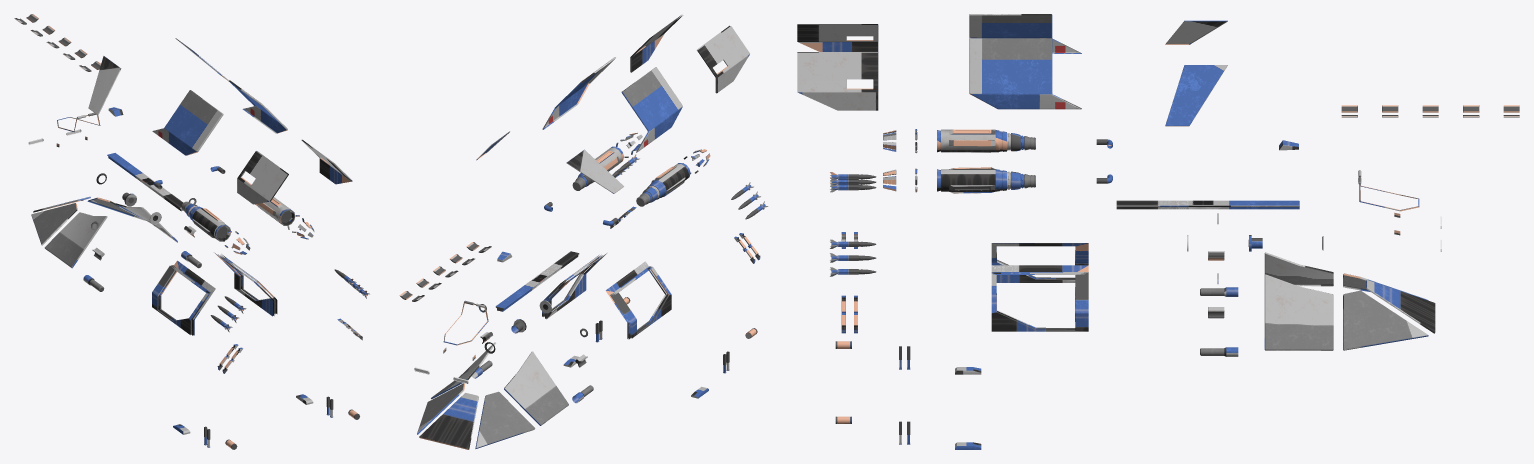
The model's file is HAAD_H.fbx.
The picture shows the model from 3 angles, left to right: view 1: azimuth 30°, elevation 25°; view 2: azimuth 150°, elevation 25°; view 3: azimuth 270°, elevation 25°; orthographic projection. The views are drawn at different scales.
Visible parts, largest first — view 1: Armor_Body_H, TroopPod_Armor_H, TroopPod_DoorFrame_H, TroopPod_Doors_H, Thruster_Body_H, Wings_Panel_H, TroopPod_ConnectorTop_H, Theet_H, Missiles_H; view 2: Armor_Body_H, TroopPod_Armor_H, TroopPod_DoorFrame_H, TroopPod_Doors_H, Thruster_Body_H, Wings_Panel_H, TroopPod_ConnectorTop_H, Theet_H, Missiles_H, MissilesConnector_H; view 3: Armor_Body_H, TroopPod_Armor_H, TroopPod_Doors_H, Thruster_Body_H, TroopPod_DoorFrame_H, Wings_Panel_H, TroopPod_ConnectorTop_H, Missiles_H, Theet_H.
Part boxes in pixels (x1,y1,x2,y2): Armor_Body_H: (31,196,177,268); TroopPod_Armor_H: (152,80,287,155); TroopPod_DoorFrame_H: (152,252,277,335); TroopPod_Doors_H: (237,139,352,204); Thruster_Body_H: (181,197,295,241); Wings_Panel_H: (88,38,228,115); TroopPod_ConnectorTop_H: (107,153,183,211); Theet_H: (14,14,100,71); Missiles_H: (210,269,369,332); Armor_Body_H: (417,342,568,449); TroopPod_Armor_H: (542,57,682,152); TroopPod_DoorFrame_H: (542,253,671,339); TroopPod_Doors_H: (630,15,749,93); Thruster_Body_H: (572,146,690,206); Wings_Panel_H: (476,131,623,193); TroopPod_ConnectorTop_H: (495,251,579,311); Theet_H: (399,242,491,301); Missiles_H: (612,154,768,219); MissilesConnector_H: (610,206,760,263); Armor_Body_H: (1264,252,1435,350); TroopPod_Armor_H: (969,14,1081,109); TroopPod_Doors_H: (797,24,878,110); Thruster_Body_H: (937,129,1035,193); TroopPod_DoorFrame_H: (991,243,1088,331); Wings_Panel_H: (1165,20,1227,126); TroopPod_ConnectorTop_H: (1116,200,1299,209); Missiles_H: (830,172,876,276); Theet_H: (1341,105,1519,117).
Bounding box in the file's own units: 1038 × 2094 × 3570.
